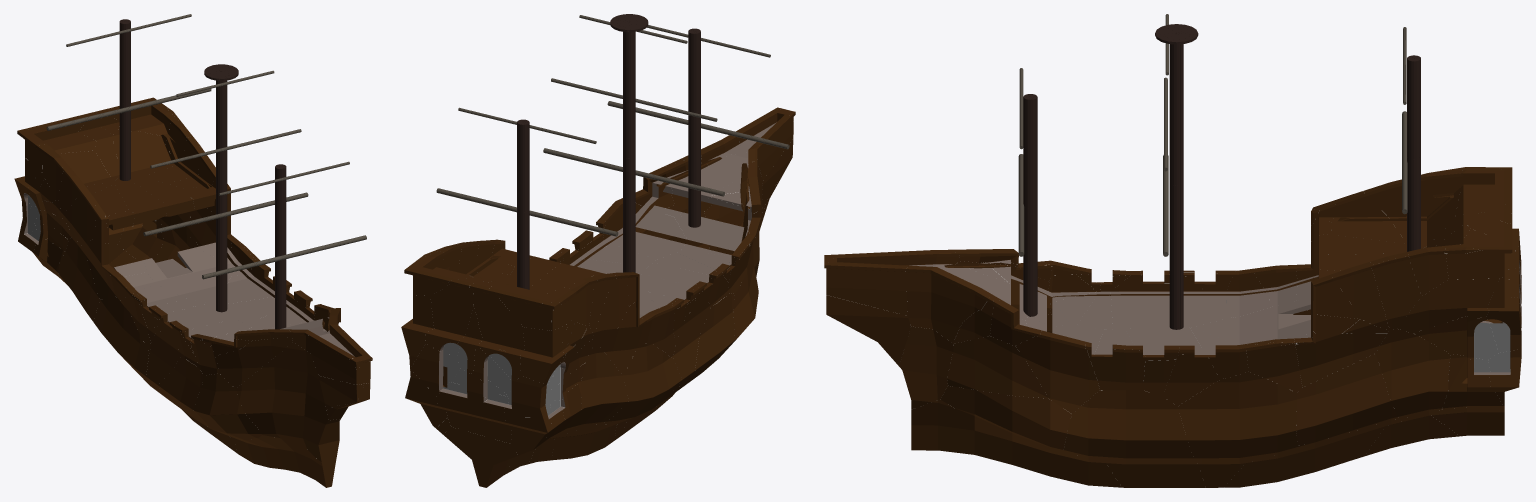
File: brod_unisten.fbx
The picture shows the model from 3 angles, left to right: view 1: azimuth 30°, elevation 25°; view 2: azimuth 150°, elevation 25°; view 3: azimuth 270°, elevation 25°; orthographic projection. The views are drawn at different scales.
Visible parts, largest first — view 1: Cube_cell.001, Cube_cell.023, Cube_cell.062, Cube_cell.025, Cube_cell.032, Cube_cell.042, Cube_cell.036, Cube_cell.041, Cube_cell.002, Cube_cell.004, Cube_cell.033, Cube_cell.028 (+42 smaller); view 2: Cube_cell.032, Cube_cell.033, Cube_cell.047, Cube_cell.044, Cube_cell.056, Cube_cell.041, Cube_cell.045, Cube_cell.028, Cube_cell.086, Cube_cell.042, Cube_cell.039, Cube_cell.052 (+49 smaller); view 3: Cube_cell.018, Cube_cell.016, Cube_cell.023, Cube_cell.013, Cube_cell.012, Cube_cell.042, Cube_cell.021, Cube_cell.022, Cube_cell.010, Cube_cell.020, Cube_cell.052, Cube_cell.008 (+42 smaller).
Boxes of the visible parts, x1,y1,x2,y2 form: Cube_cell.001: (236, 342, 340, 461); Cube_cell.023: (234, 435, 337, 487); Cube_cell.062: (144, 247, 230, 304); Cube_cell.025: (193, 373, 261, 439); Cube_cell.032: (93, 296, 163, 395); Cube_cell.042: (309, 332, 372, 384); Cube_cell.036: (37, 144, 116, 201); Cube_cell.041: (22, 116, 96, 172); Cube_cell.002: (215, 337, 293, 388); Cube_cell.004: (63, 184, 128, 245); Cube_cell.033: (56, 235, 99, 321); Cube_cell.028: (158, 356, 234, 439); Cube_cell.032: (603, 341, 681, 425); Cube_cell.033: (561, 347, 628, 431); Cube_cell.047: (436, 382, 511, 443); Cube_cell.044: (469, 280, 524, 380); Cube_cell.056: (425, 278, 489, 357); Cube_cell.041: (488, 284, 576, 330); Cube_cell.045: (443, 427, 517, 487); Cube_cell.028: (668, 293, 734, 397); Cube_cell.086: (520, 324, 567, 383); Cube_cell.042: (736, 107, 793, 180); Cube_cell.039: (669, 143, 760, 202); Cube_cell.052: (552, 423, 616, 460); Cube_cell.018: (1064, 390, 1205, 487); Cube_cell.016: (1177, 372, 1298, 487); Cube_cell.023: (911, 399, 1121, 487); Cube_cell.013: (1296, 353, 1399, 445); Cube_cell.012: (1376, 328, 1450, 418); Cube_cell.042: (824, 250, 921, 315); Cube_cell.021: (940, 385, 1071, 450); Cube_cell.022: (947, 336, 1048, 398); Cube_cell.010: (905, 265, 993, 342); Cube_cell.020: (1015, 330, 1099, 413); Cube_cell.052: (1224, 417, 1404, 487); Cube_cell.008: (1294, 313, 1387, 387).
Size of the model in its own units: 1271 by 2738 by 3821.
